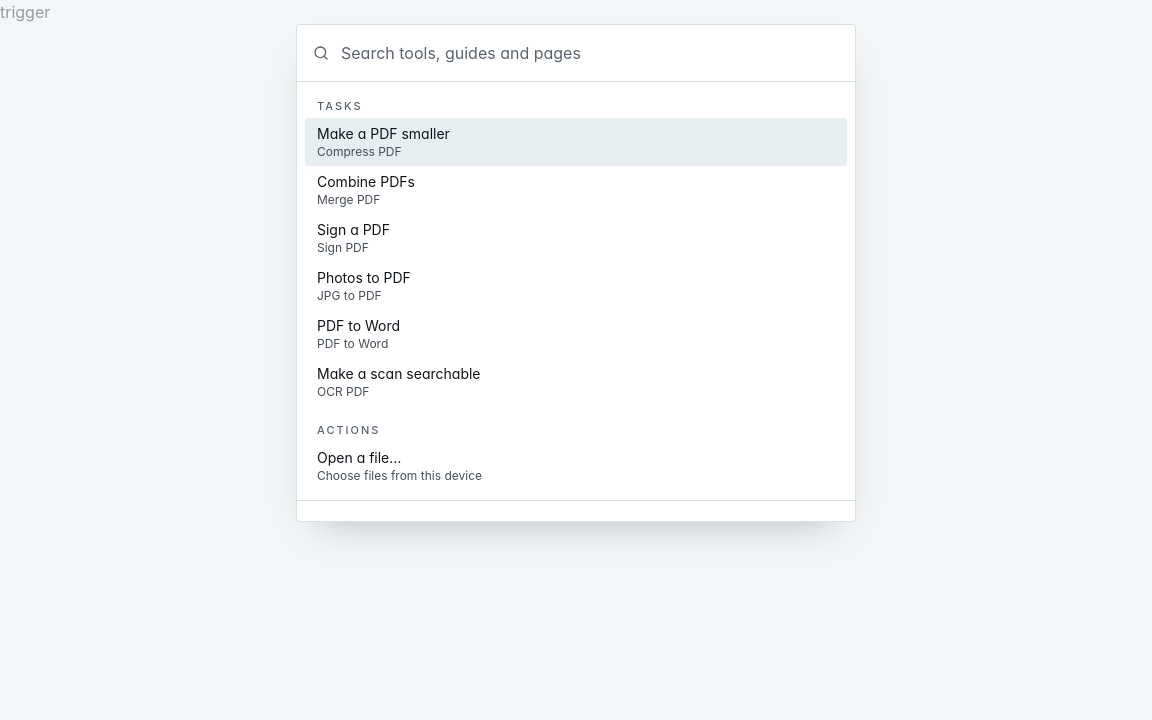
Test: the combobox contract › no results: says so, and offers the search page
Type "qqqzzzxxyy" into the dropdown named "Find a tool or guide" at x=590, y=53, box [341,25,839,81]
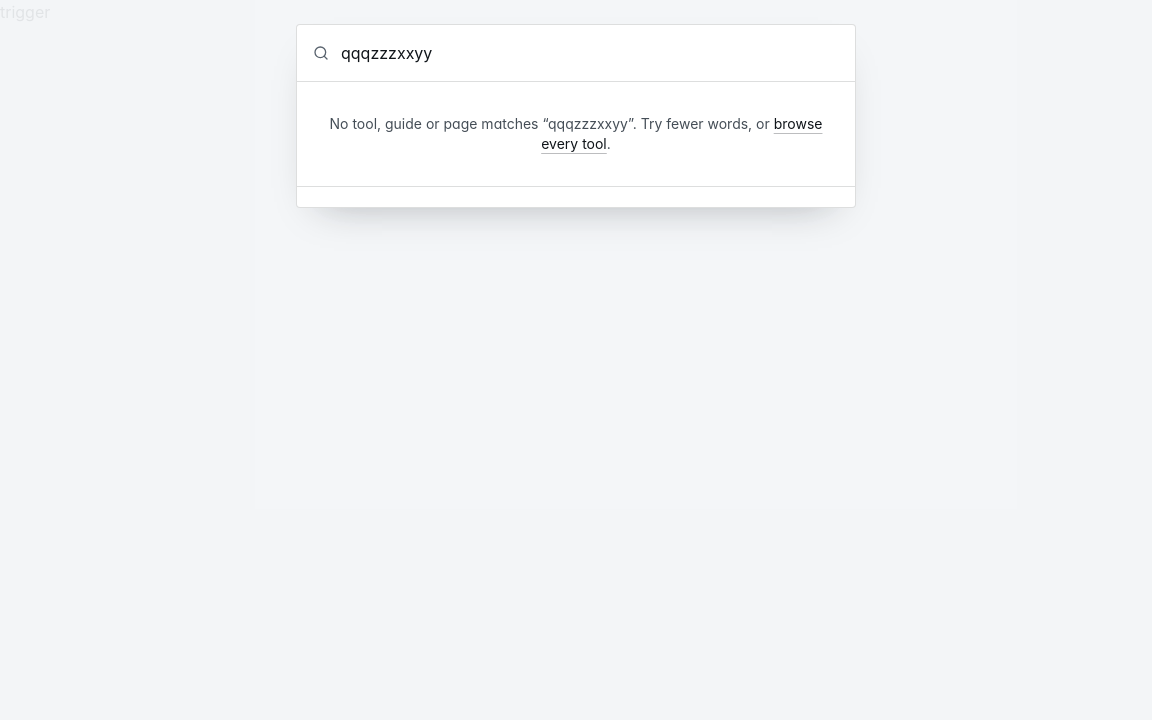
Expected: the text "No tool, guide or page matches" is shown, [330,115,548,132]
